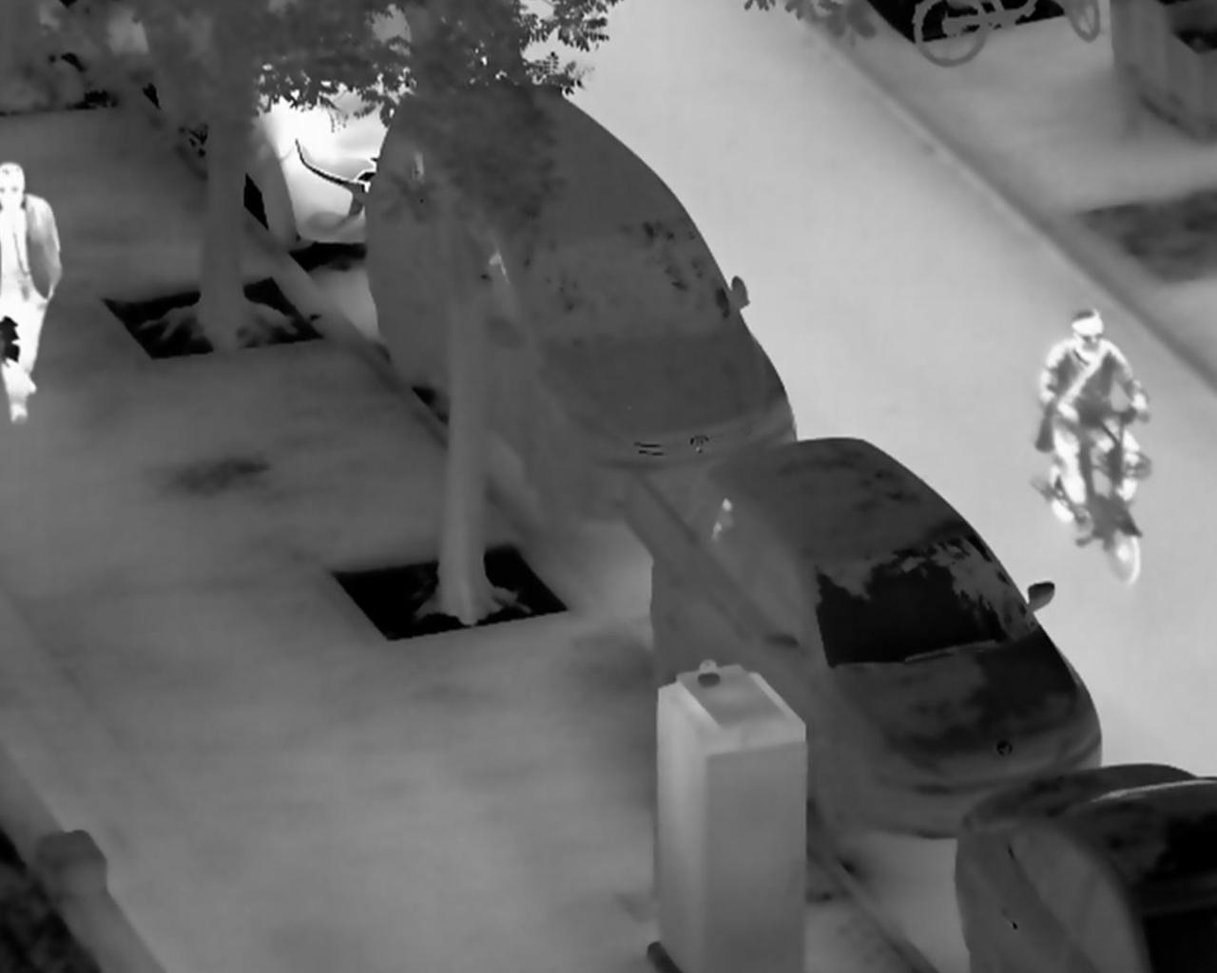person: (1035, 306, 1149, 520)
